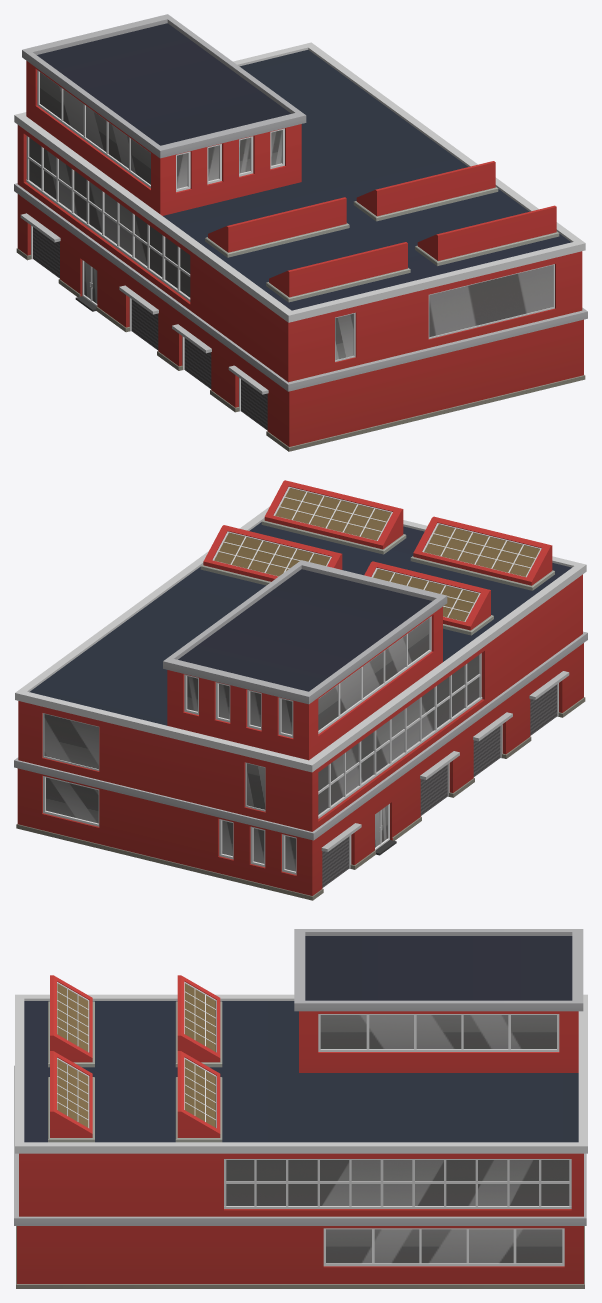
File: Building_Factory_4_A.fbx
3 renders of one model, top to bottom at view 1: azimuth 30°, elevation 25°; view 2: azimuth 150°, elevation 25°; view 3: azimuth 270°, elevation 25°, orthographic. The views are drawn at different scales.
Parts seen in each view (by area): view 1: Building_Factory_4_A; view 2: Building_Factory_4_A; view 3: Building_Factory_4_A.
Boxes of the visible parts, bbox=[...] form: Building_Factory_4_A: bbox=[14, 14, 587, 451]; Building_Factory_4_A: bbox=[14, 480, 587, 900]; Building_Factory_4_A: bbox=[14, 929, 587, 1288].
Bounding box in the file's own units: 1820 × 1159 × 2856.
